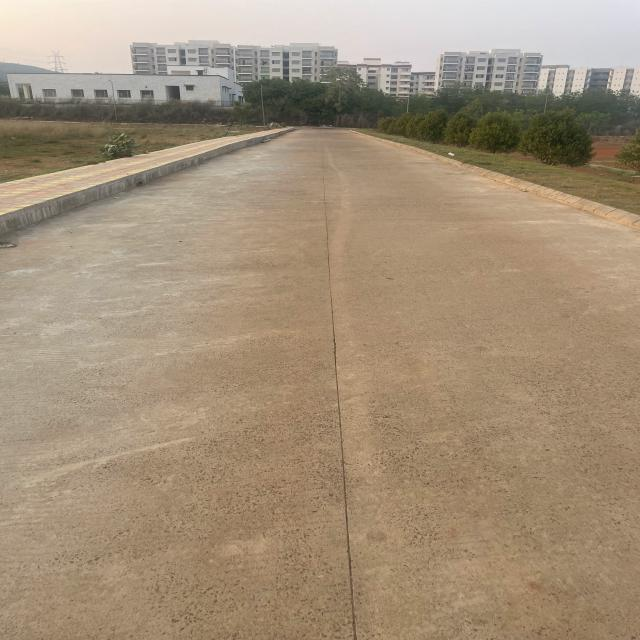D43: (292, 159, 424, 640)
